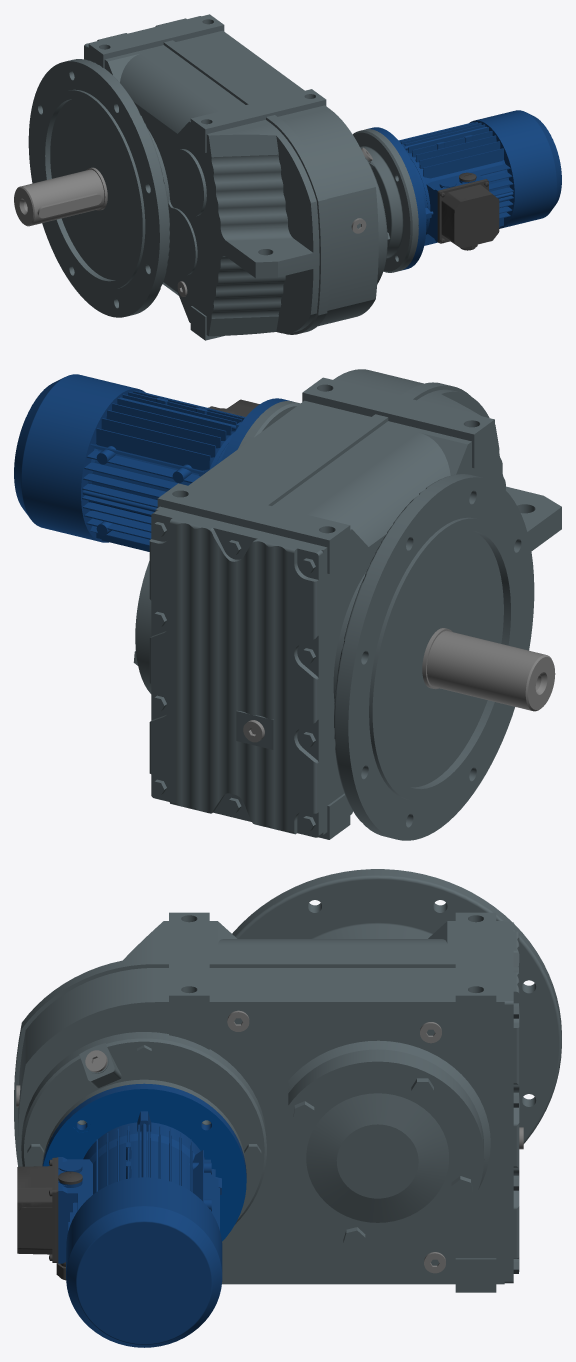
3 views of the same model, one above another, from view 1: azimuth 30°, elevation 25°; view 2: azimuth 150°, elevation 25°; view 3: azimuth 270°, elevation 25° (orthographic). The views are drawn at different scales.
Parts seen in each view (by area): view 1: Сборка, Мотор-редуктор NMRV 075(100B5)-Motovario-полый выходной вал,, =>[0:1:1:5]; view 2: Сборка, Мотор-редуктор NMRV 075(100B5)-Motovario-полый выходной вал,, =>[0:1:1:5]; view 3: Сборка, Мотор-редуктор NMRV 075(100B5)-Motovario-полый выходной вал,, =>[0:1:1:5].
Part boxes in pixels (x1=…): Сборка: x1=14, y1=14, x2=418, y2=340; Мотор-редуктор NMRV 075(100B5)-Motovario-полый выходной вал,: x1=398, y1=110, x2=561, y2=250; =>[0:1:1:5]: x1=366, y1=126, x2=513, y2=270; Сборка: x1=133, y1=369, x2=561, y2=840; Мотор-редуктор NMRV 075(100B5)-Motovario-полый выходной вал,: x1=14, y1=374, x2=259, y2=551; =>[0:1:1:5]: x1=82, y1=397, x2=291, y2=511; Сборка: x1=14, y1=869, x2=561, y2=1292; Мотор-редуктор NMRV 075(100B5)-Motovario-полый выходной вал,: x1=17, y1=1124, x2=222, y2=1347; =>[0:1:1:5]: x1=42, y1=1083, x2=246, y2=1241.
Bounding box in the file's own units: 0.8539 × 0.45 × 0.669.
